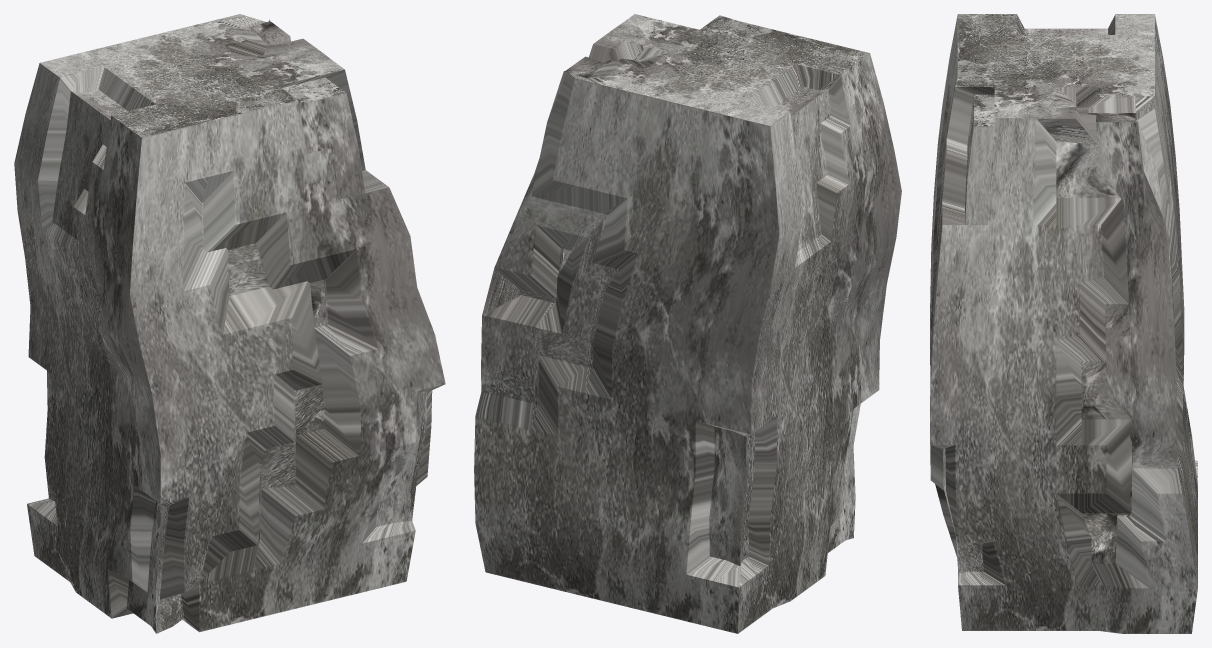
File: stonehenge_gray_1.FBX
The picture shows the model from 3 angles, left to right: view 1: azimuth 30°, elevation 25°; view 2: azimuth 150°, elevation 25°; view 3: azimuth 270°, elevation 25°; orthographic projection. The views are drawn at different scales.
Visible parts, largest first — view 1: Box005; view 2: Box005; view 3: Box005.
Part boxes in pixels (x1=…): Box005: x1=14, y1=14, x2=445, y2=633; Box005: x1=474, y1=14, x2=901, y2=633; Box005: x1=930, y1=14, x2=1197, y2=633.
Size of the model in its own units: 122 by 190 by 93.93.
1 material, 1 textured.
